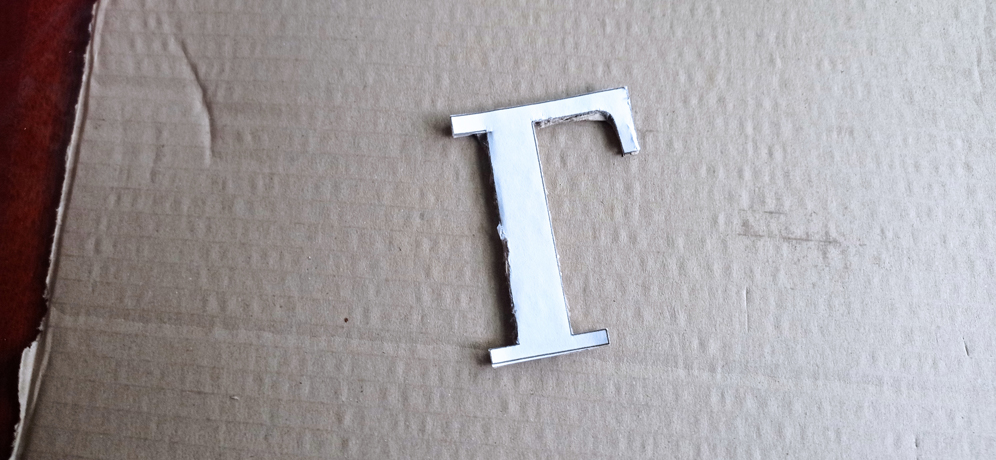g: (450, 86, 642, 373)
